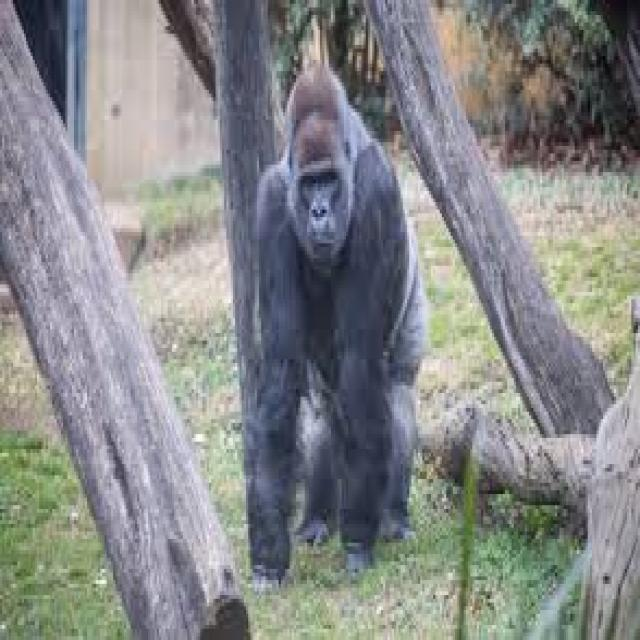Gorilla: (241, 52, 430, 583)
